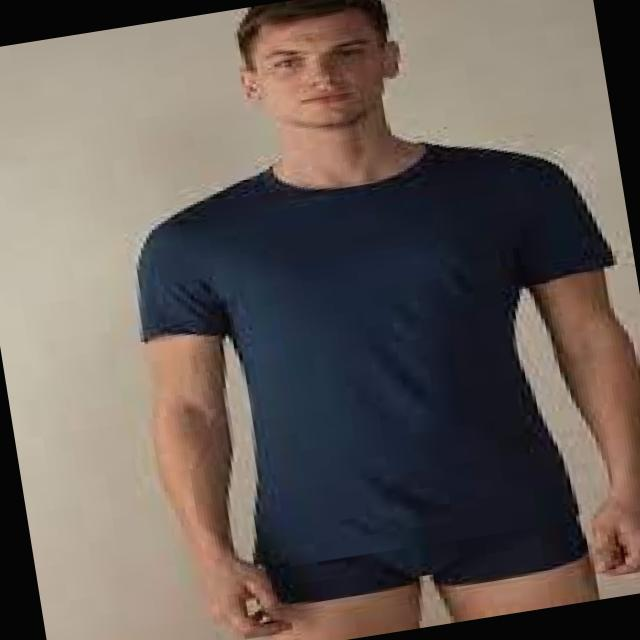Tshirt: (92, 106, 640, 593)
short: (248, 510, 600, 620)
